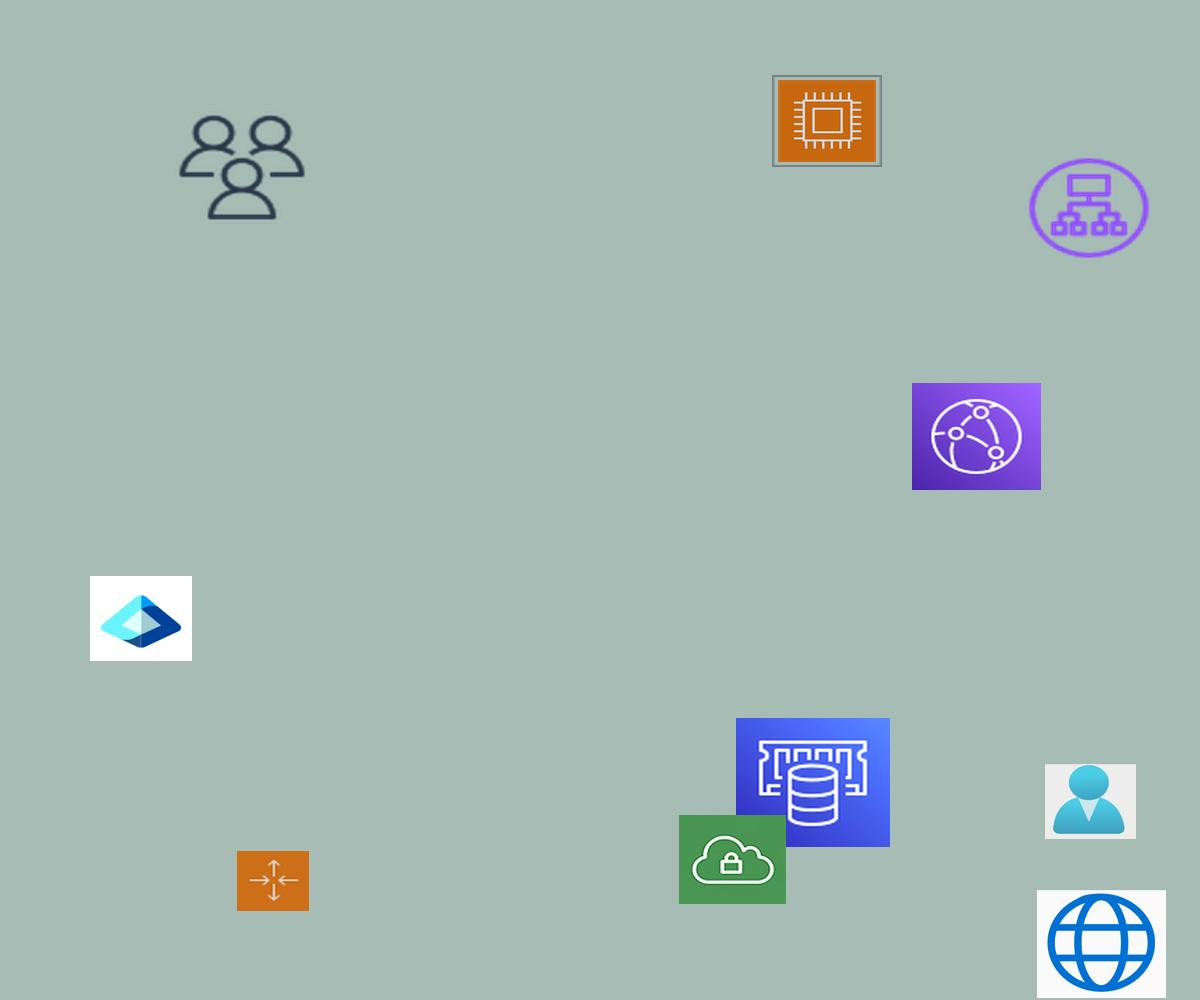AWS-Category_Compute: (772, 75, 882, 167)
AWS-CloudFront: (912, 383, 1041, 490)
AWS-ElastiCache: (736, 718, 890, 847)
AWS-Private_vpc: (679, 815, 786, 904)
AWS-Res_Elastic-Load-Balancing_Application-Load-Balancer: (1024, 154, 1154, 262)
AWS-Res_Users: (174, 111, 310, 224)
AWS-Scaling-group: (237, 851, 309, 911)
Azure_http: (1037, 890, 1166, 998)
Azure_microsoft_entra: (90, 576, 192, 661)
Azure_users: (1045, 764, 1136, 839)
